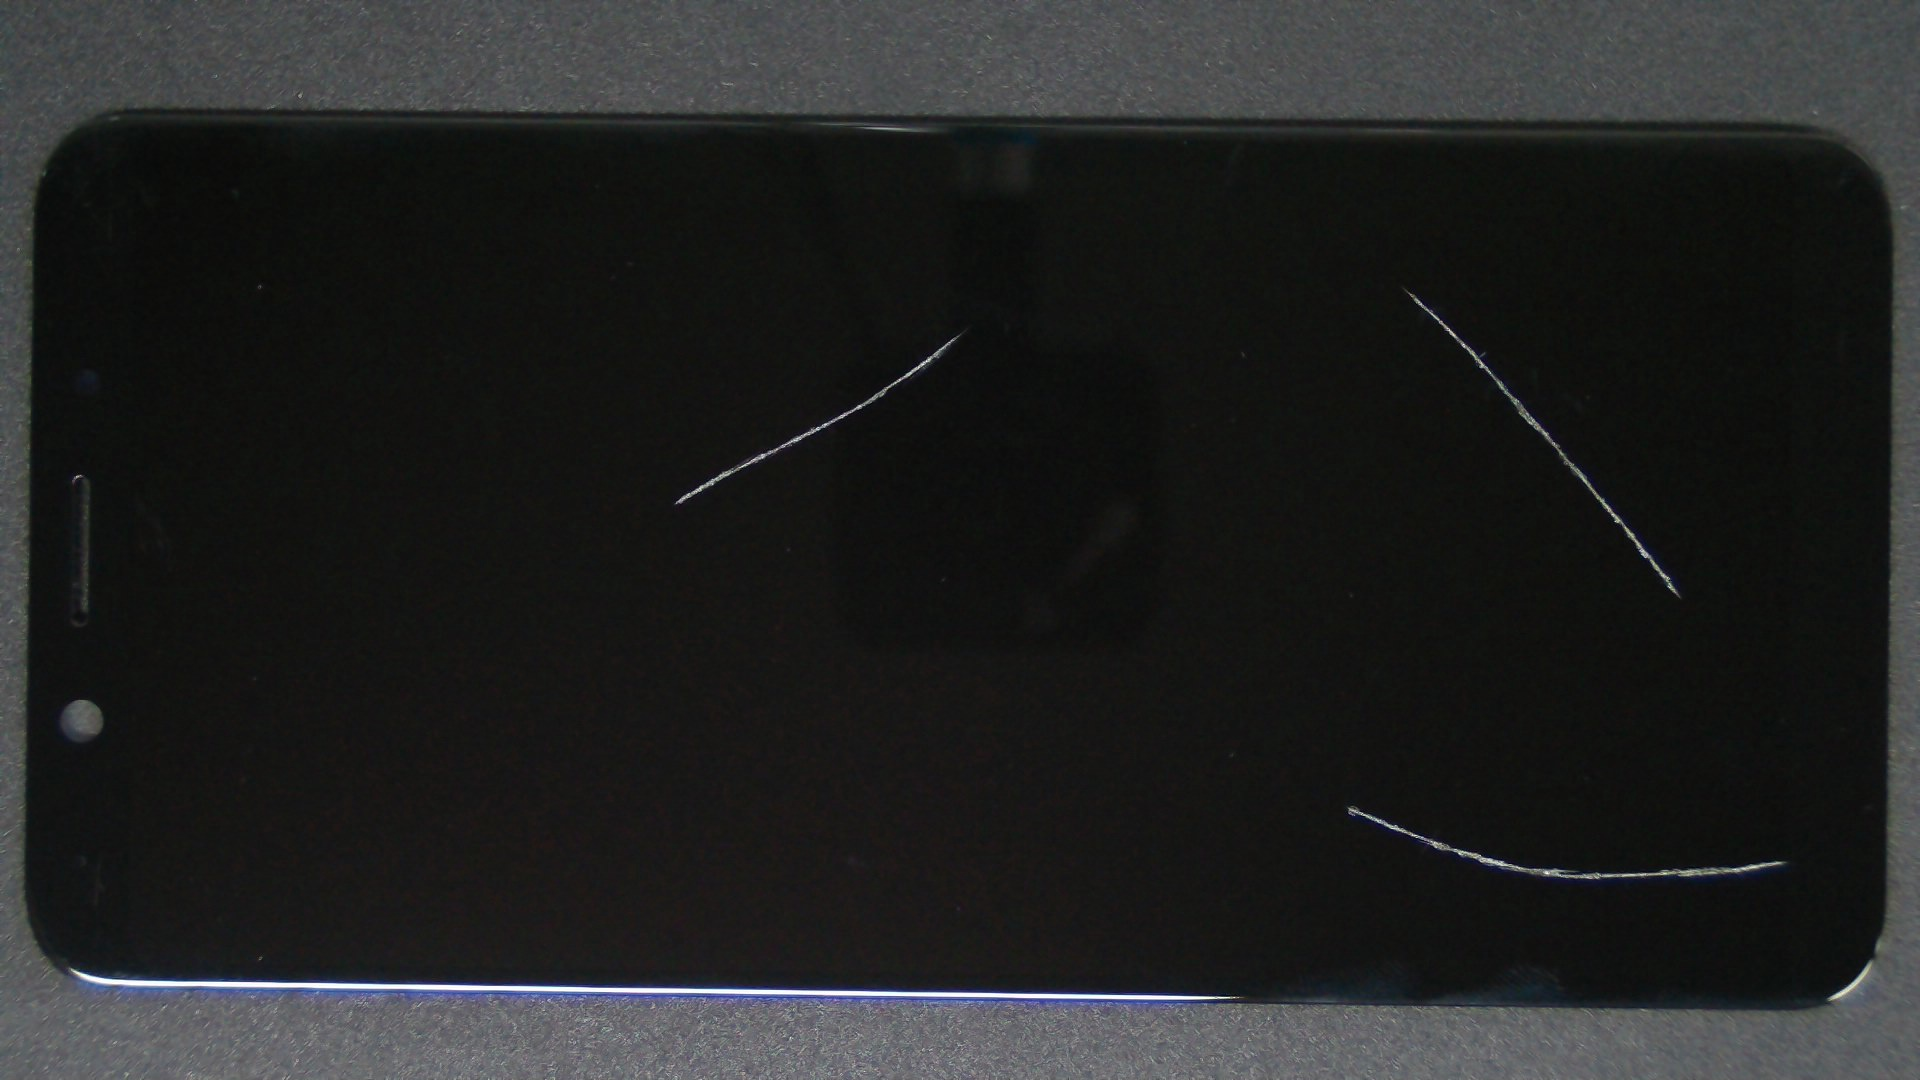oil: (676, 401, 1920, 1080), (700, 142, 1920, 431), (481, 166, 1443, 498)
